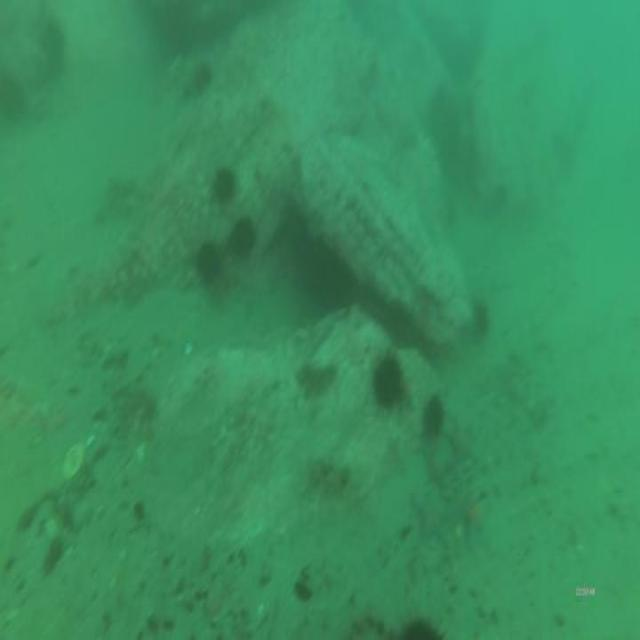echinus: (368, 348, 407, 416), (40, 17, 68, 87), (418, 389, 449, 449), (0, 70, 27, 131), (194, 237, 225, 289), (399, 605, 445, 640), (208, 164, 239, 208), (230, 216, 257, 262), (470, 296, 492, 346), (188, 60, 214, 98)
holothurian: (302, 454, 352, 504), (293, 354, 339, 406)
starfish: (414, 492, 454, 552), (453, 485, 488, 541), (444, 414, 479, 466), (419, 441, 452, 493)
